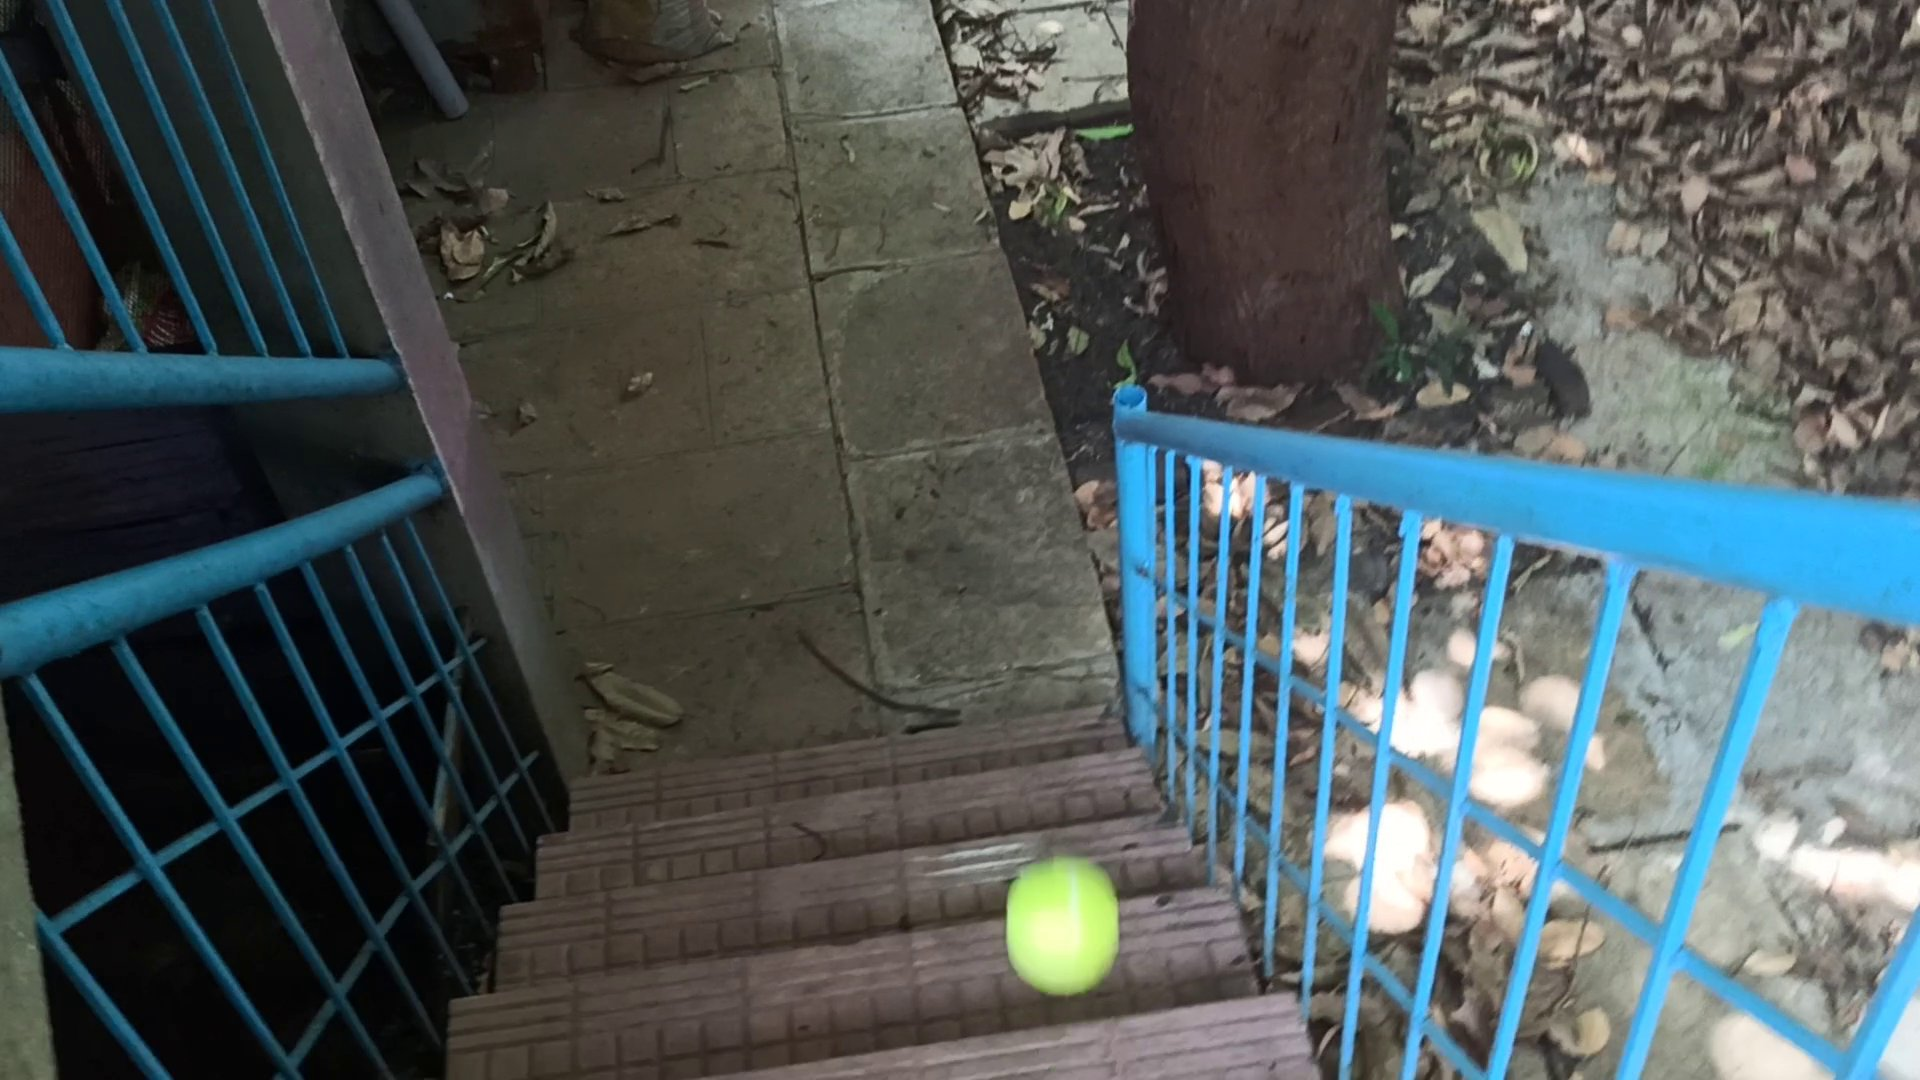Tennis-Ball: (1006, 856, 1120, 996)
